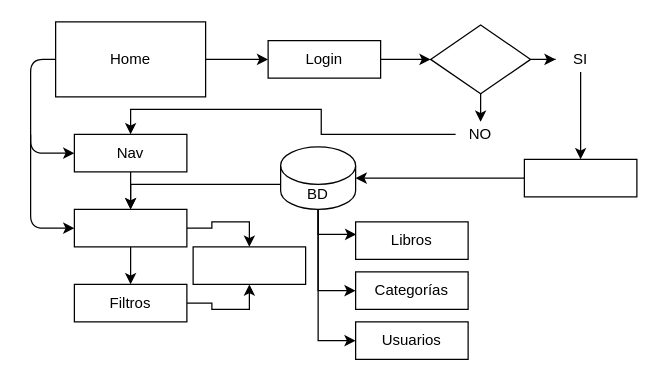
Image size: 659x381. Some labels were removed from this diagram. Each missing label, with the centre of its shape:
"Admin" goes at (x=480, y=59).
"Listado de libros" goes at (x=130, y=227).
"Poder editar" goes at (x=580, y=177).
"Ver Libro" goes at (x=249, y=265).
